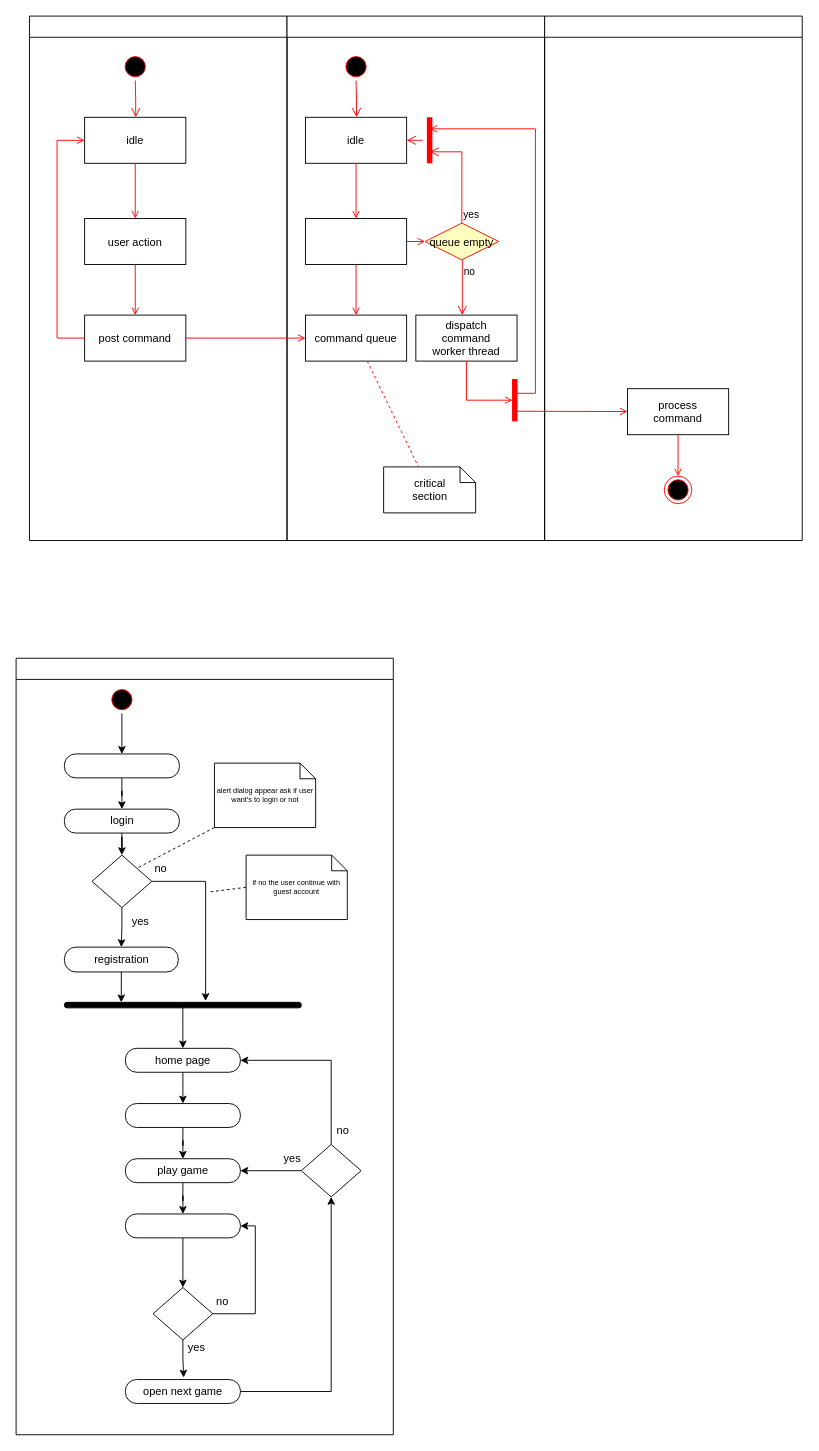
Image size: 819x1451. Some labels were removed from this diagram. The shapes that lost their labels are listed below. From the top down, each one's box as (x1, y1, x2, y2) in pixels, then its label:
(305, 218, 407, 264): check for new commands
(29, 15, 287, 540): Thread 1
(286, 15, 545, 540): Thread 2
(544, 15, 802, 540): Thread 3
(63, 753, 179, 778): placement test
(15, 657, 393, 1435): child
(124, 1103, 240, 1127): select game
(124, 1213, 240, 1238): level up test
